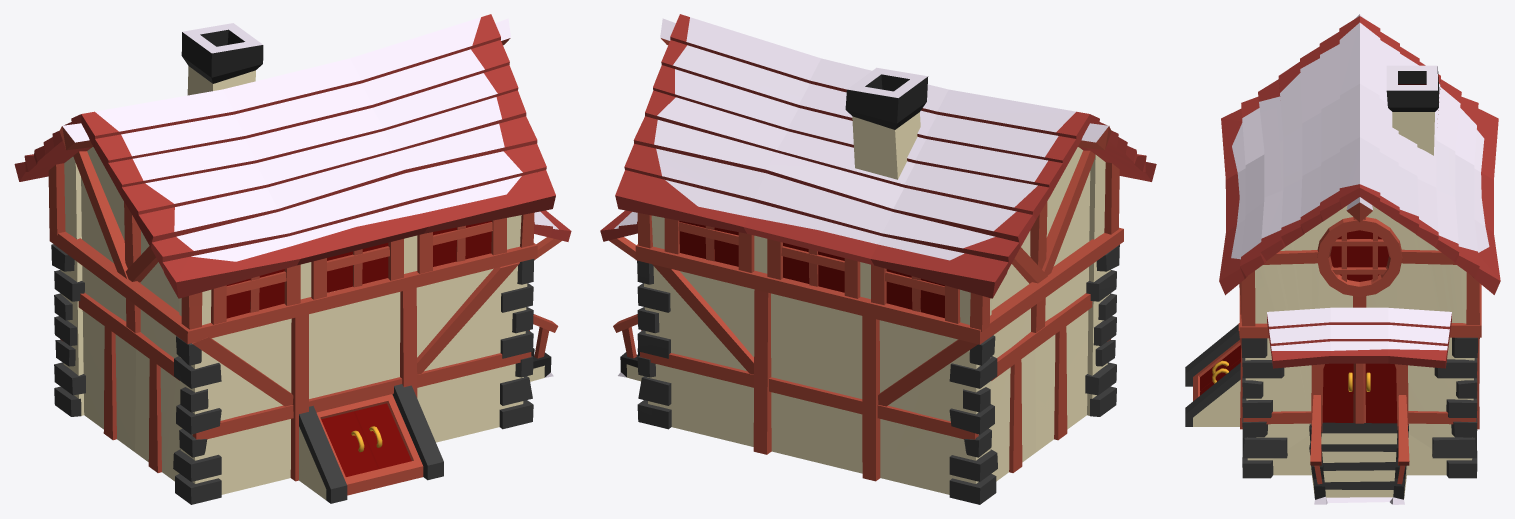
File: winter_castle_house3.glb
The picture shows the model from 3 angles, left to right: view 1: azimuth 30°, elevation 25°; view 2: azimuth 150°, elevation 25°; view 3: azimuth 270°, elevation 25°; orthographic projection. The views are drawn at different scales.
Visible parts, largest first — view 1: House3_Medieval_0; view 2: House3_Medieval_0; view 3: House3_Medieval_0.
Boxes of the visible parts, box(x1,y1,x2,y2) form: House3_Medieval_0: box(14, 14, 571, 504); House3_Medieval_0: box(600, 14, 1156, 504); House3_Medieval_0: box(1185, 14, 1500, 504).
Size of the model in its own units: 6.16 by 4.6 by 4.19.
1 material, 1 textured.
